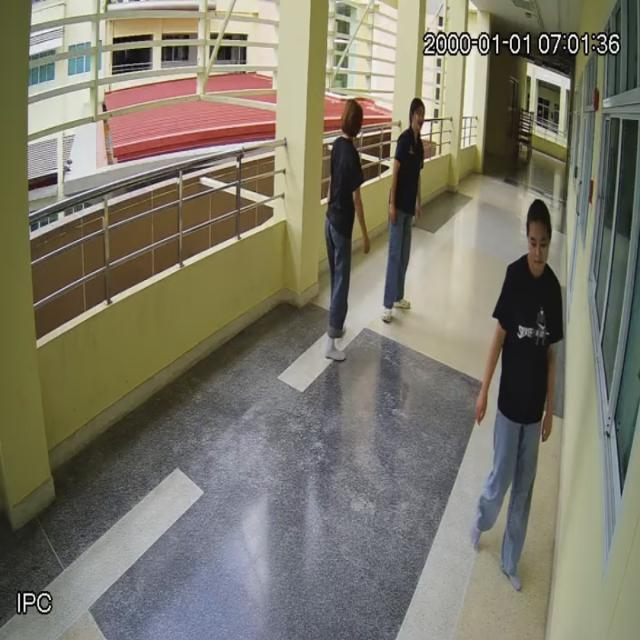normal: (472, 201, 560, 593), (325, 96, 368, 361), (385, 98, 426, 323)
